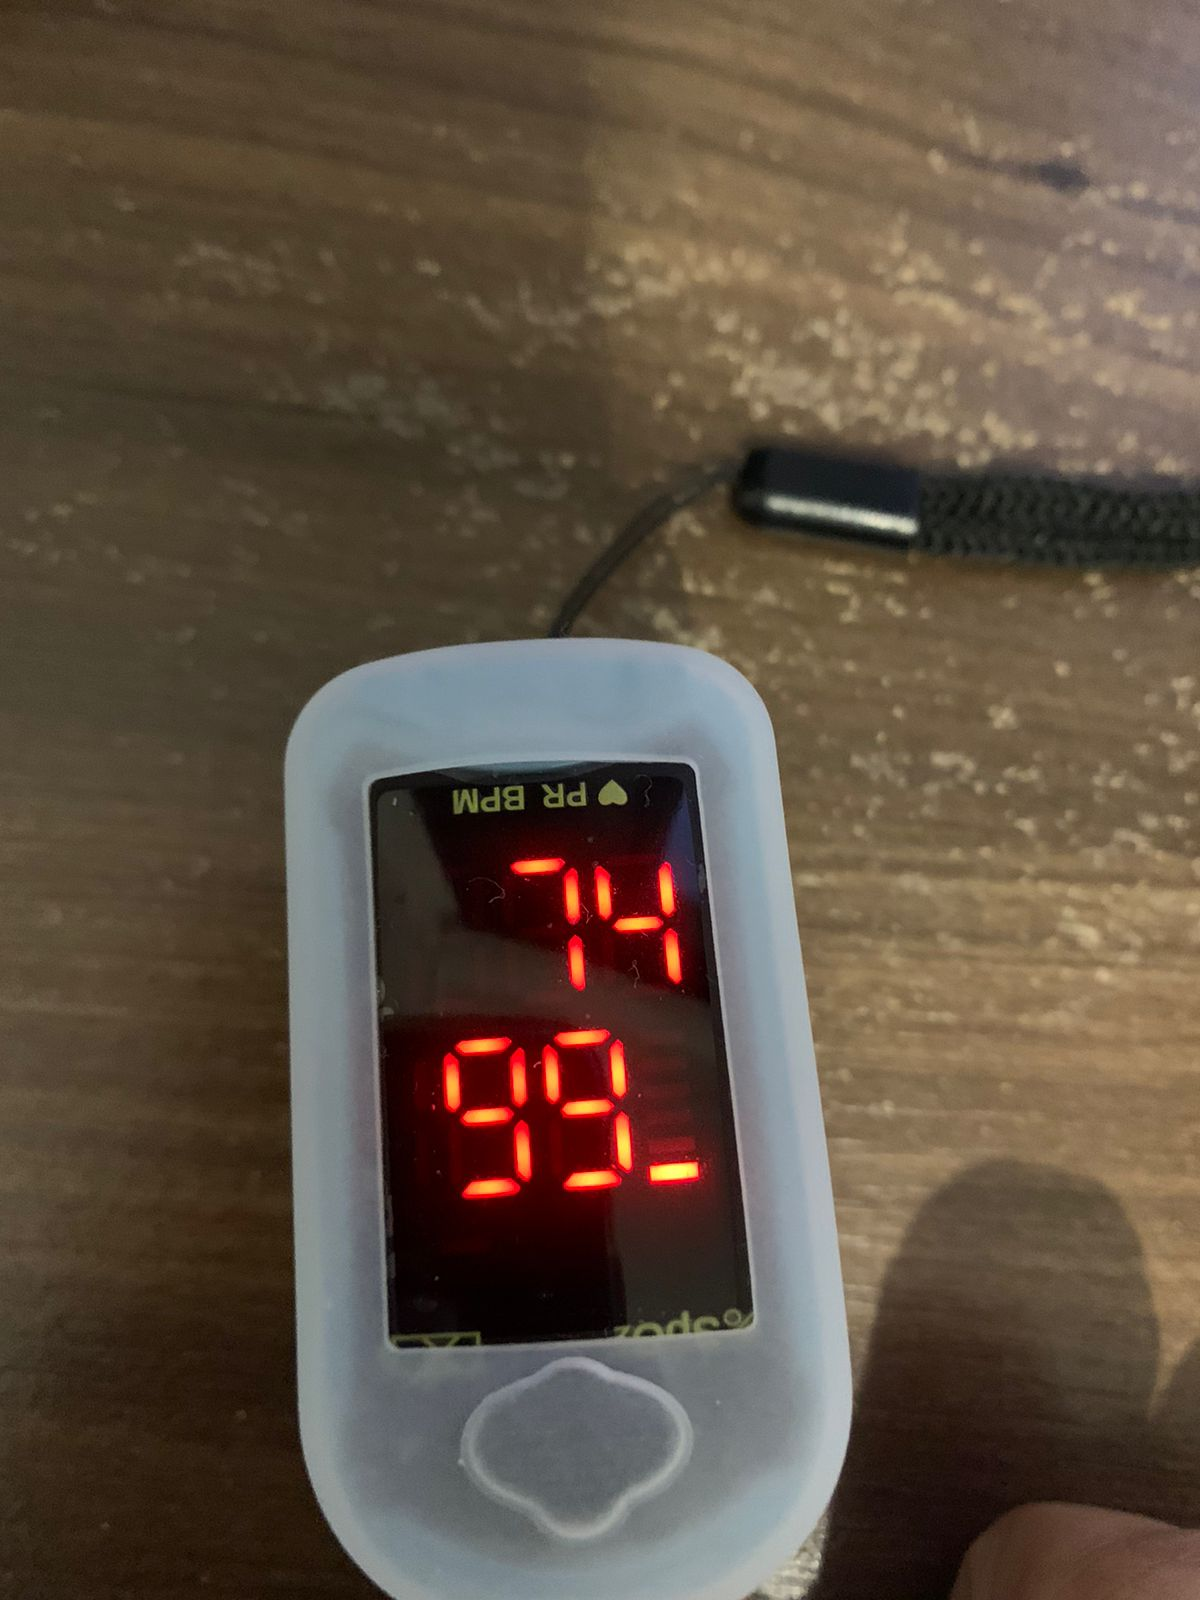display: (345, 752, 763, 1342)
